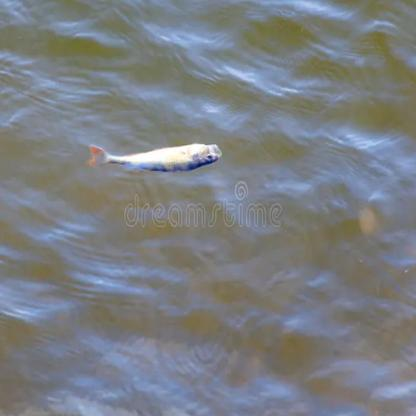deceased fish: (81, 135, 222, 173)
